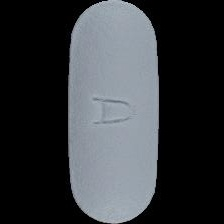66116-371: (0, 0, 224, 224)
